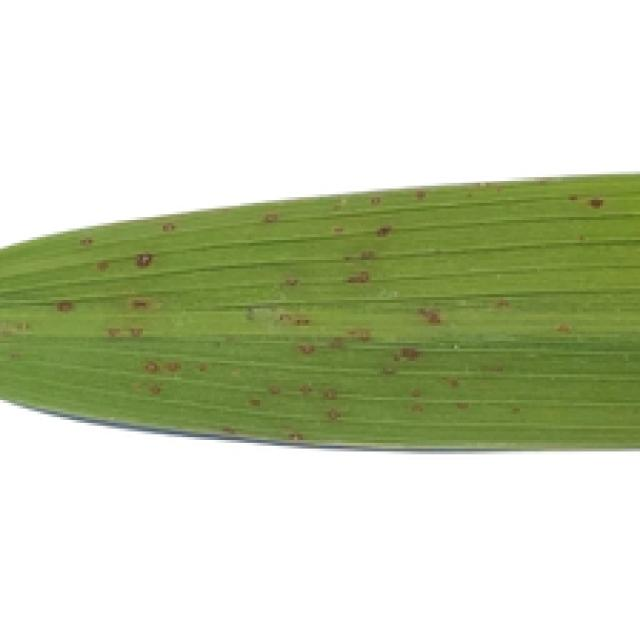Rice___Brown_Spot: (0, 173, 637, 451)
